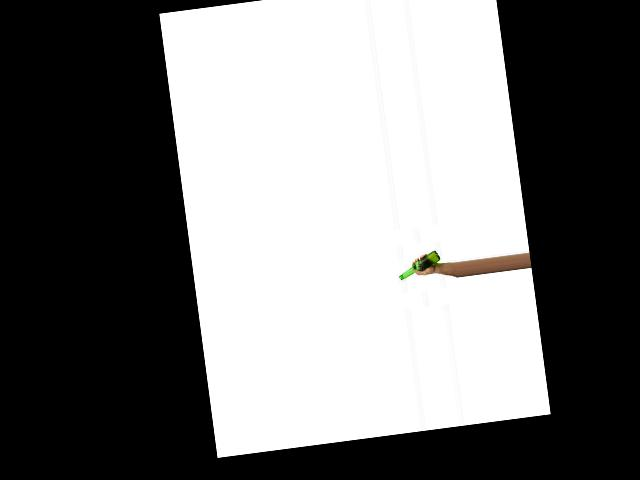beer: (396, 250, 442, 280)
